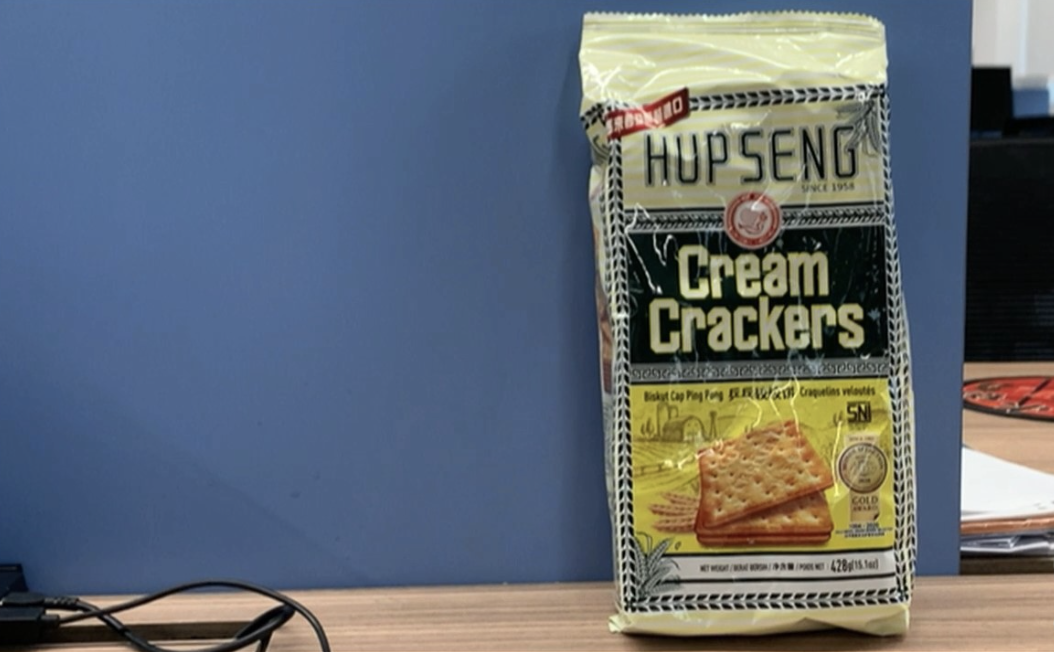crackers_450g: (612, 88, 903, 605)
